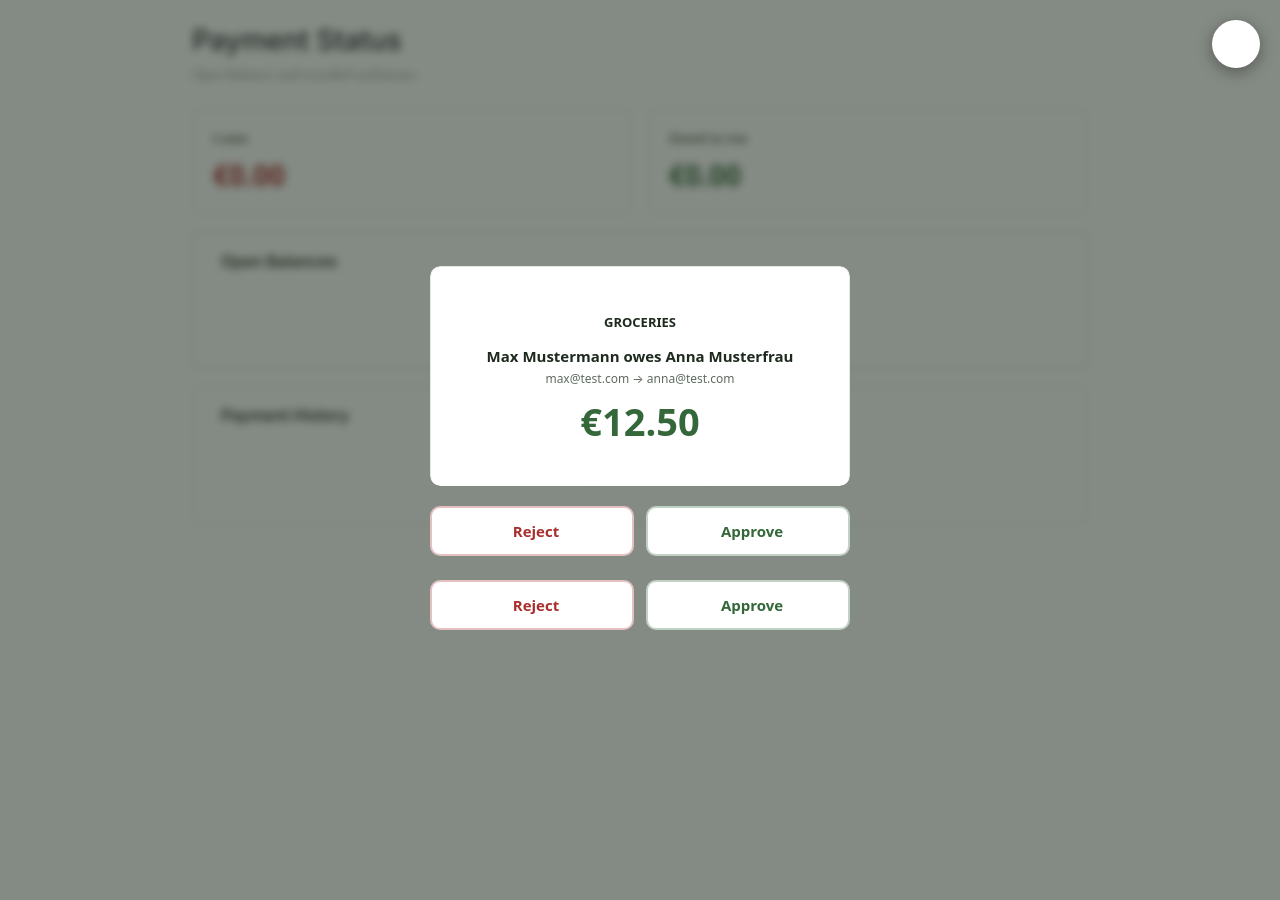
Test: PaymentStatusComponent › should close the settlement approval overlay with the close button
Click the button with test id "close-settlement-overlay" at (1236,44), box x1=1212 y1=20 x2=1260 y2=68
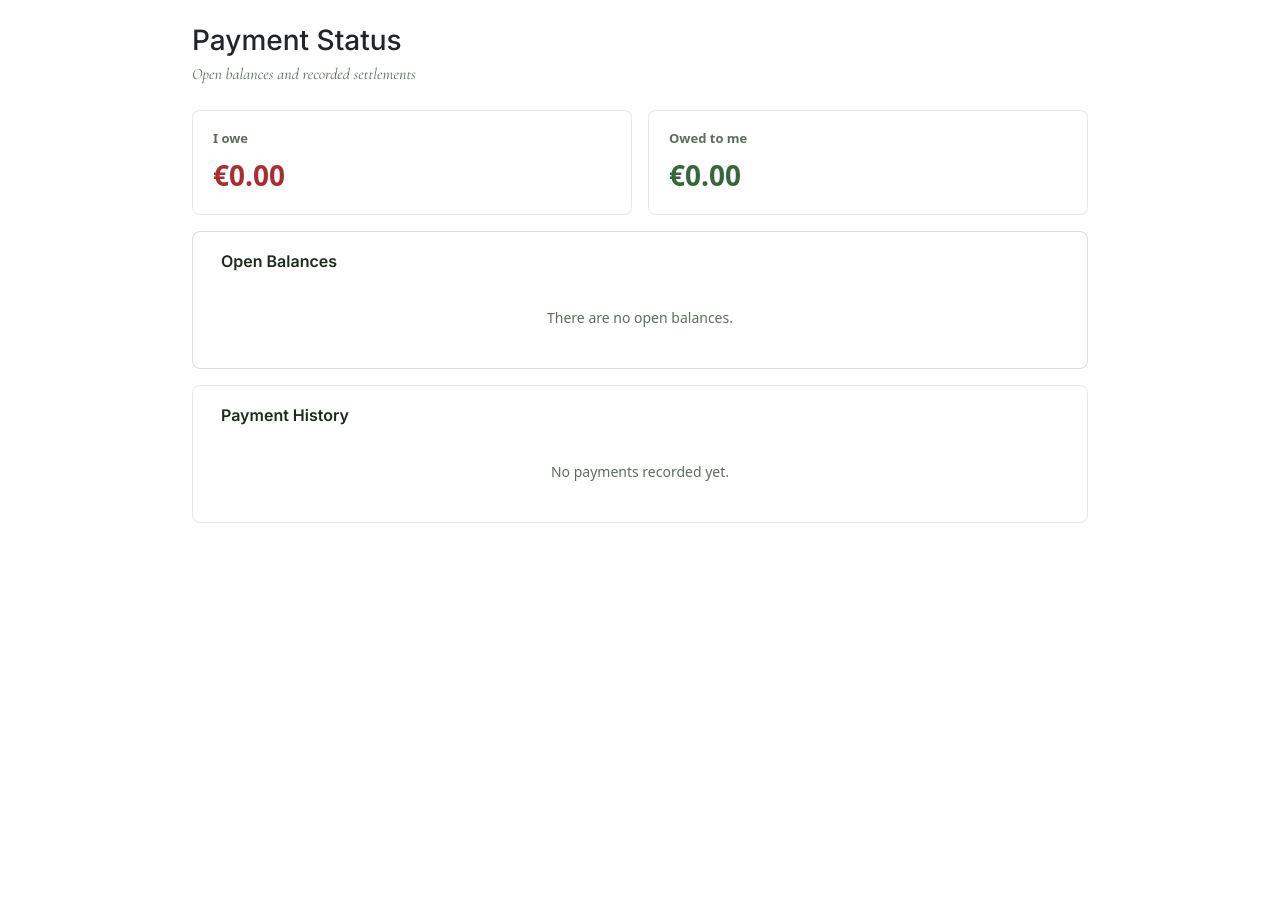
Expected: the dialog with test id "settlement-approval-overlay" is gone
